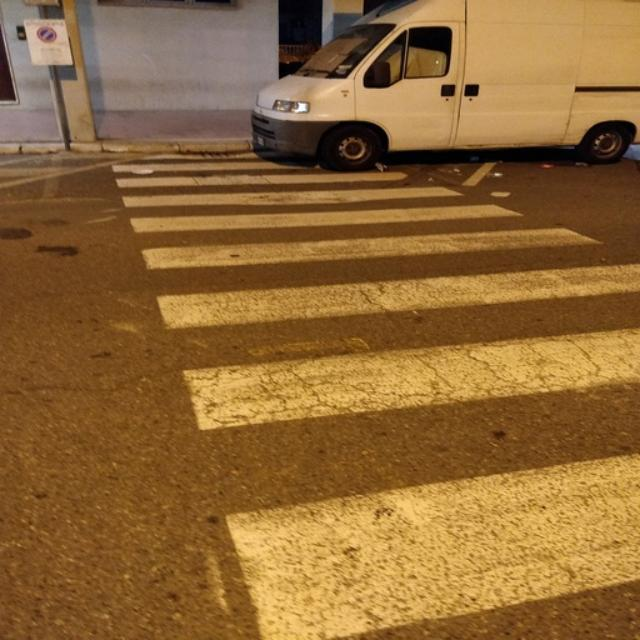sidewalk: (106, 126, 640, 640)
